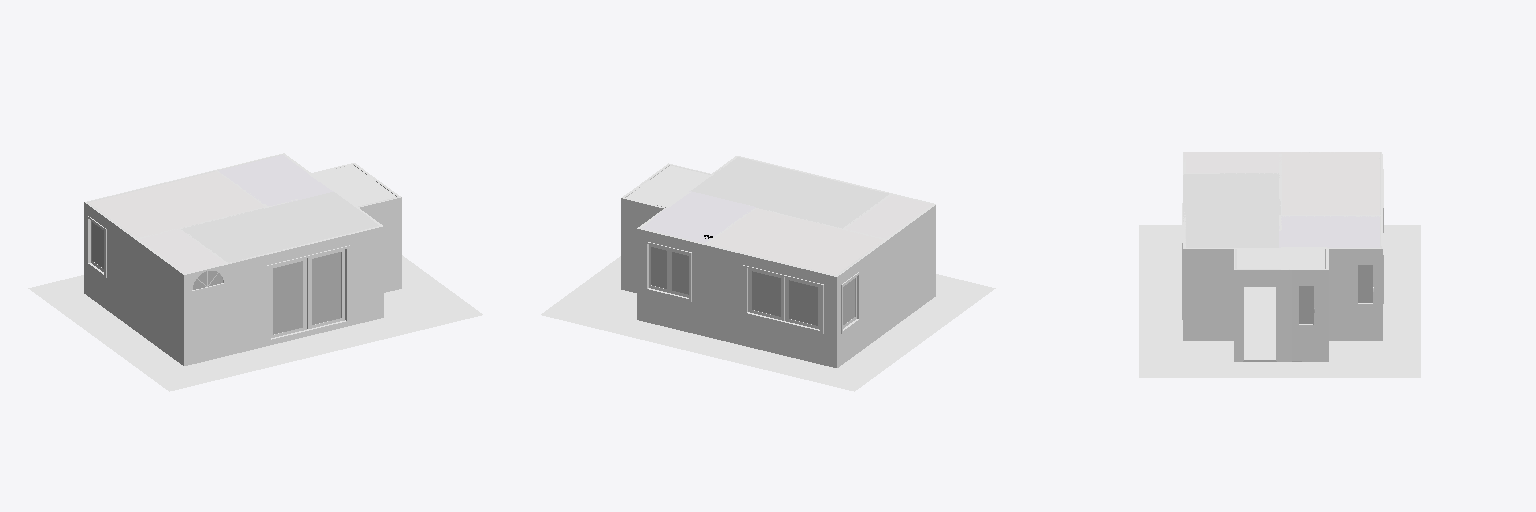
The model's file is APARTAESTUDIO-SPACEMORHP.obj.
3 renders of one model, left to right at view 1: azimuth 30°, elevation 25°; view 2: azimuth 150°, elevation 25°; view 3: azimuth 270°, elevation 25°, orthographic.
Parts seen in each view (by area): view 1: room_52_259, room_45_247, room_42_245, room_51_258, wall_29_169, wall_35_205, wall_28_163, wall_13_74, room_49_255, wall_34_199, sweethome3d_window_pane_on_hinge_2_308, room_48_253 (+9 smaller); view 2: wall_39_228, room_52_259, room_45_247, room_42_245, room_51_258, wall_36_210, wall_38_223, room_49_255, wall_34_199, room_48_253, wall_6_32, room_47_251 (+9 smaller); view 3: room_52_259, room_45_247, room_42_245, wall_5_26, wall_12_68, room_49_255, wall_15_87, wall_7_38, room_48_253, room_45_246, room_51_258, room_47_251 (+5 smaller).
Part boxes in pixels (x1,y1,x2,y2): room_52_259: (65,255,482,382); room_45_247: (181,192,378,263); room_42_245: (89,171,264,237); room_51_258: (28,280,205,391); wall_29_169: (229,236,369,354); wall_35_205: (130,236,184,365); wall_28_163: (185,264,228,365); wall_13_74: (322,226,383,330); room_49_255: (219,155,333,206); wall_34_199: (86,205,129,326); sweethome3d_window_pane_on_hinge_2_308: (273,261,302,334); room_48_253: (137,229,225,274); wall_39_228: (705,245,836,367); room_52_259: (541,256,958,382); room_45_247: (691,157,888,228); room_42_245: (709,208,883,274); room_51_258: (818,280,995,391); wall_36_210: (637,229,704,335); wall_38_223: (888,205,935,330); room_49_255: (642,191,755,243); wall_34_199: (838,244,882,367); room_48_253: (846,195,931,238); wall_6_32: (621,198,663,292); room_47_251: (649,165,711,190); room_52_259: (1139,243,1420,377); room_45_247: (1183,173,1280,247); room_42_245: (1281,152,1379,214); wall_5_26: (1329,249,1382,340); wall_12_68: (1183,249,1233,340); room_49_255: (1279,216,1379,247); wall_15_87: (1234,270,1291,361); wall_7_38: (1292,270,1328,361); room_48_253: (1184,152,1280,172); room_45_246: (1244,287,1275,339); room_51_258: (1139,225,1420,242); room_47_251: (1237,248,1280,268).
Bounding box in the file's own units: 900 × 250 × 700.